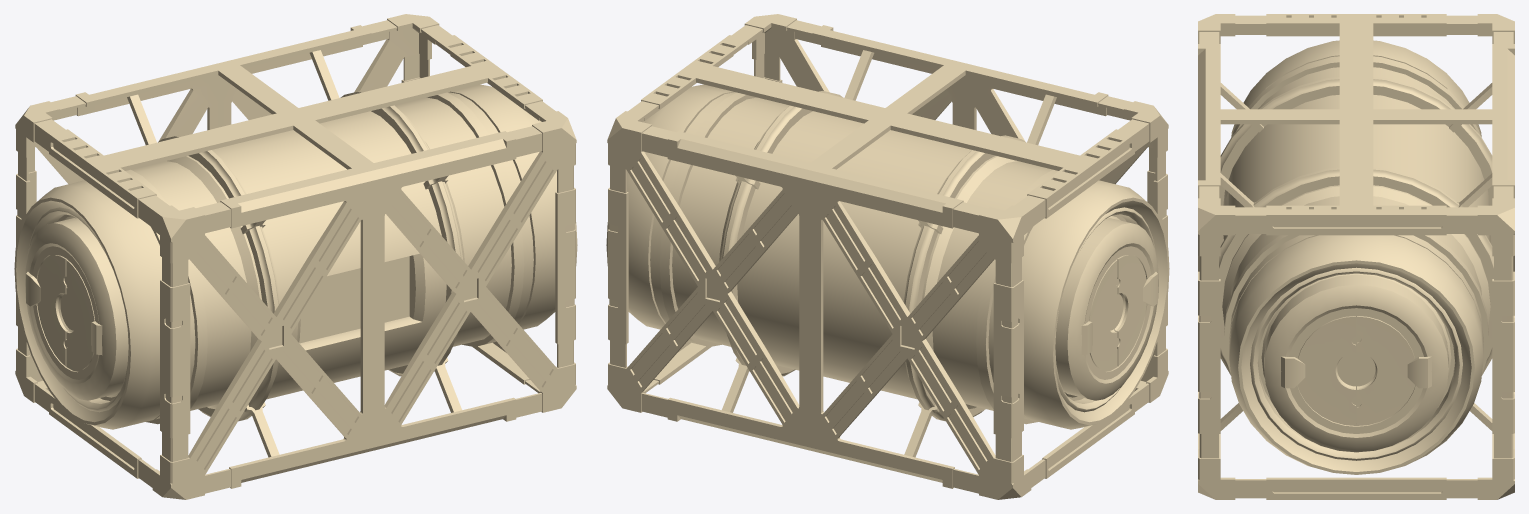
Rendered from cargo_box6.fbx.
The picture shows the model from 3 angles, left to right: view 1: azimuth 30°, elevation 25°; view 2: azimuth 150°, elevation 25°; view 3: azimuth 270°, elevation 25°; orthographic projection.
Visible parts, largest first — view 1: cage2.001, Cylinder.007, Cylinder.010, Cube.012_Piece.003, Cube.012_Piece.004, Cube.012_Piece.001_Piece.003, Cube.012_Piece.001_Piece.004; view 2: cage2.001, Cylinder.007, Cylinder.010, Cube.012_Piece.003, Cube.012_Piece.004, Cube.012_Piece.001_Piece.003, Cube.012_Piece.001_Piece.004; view 3: Cylinder.007, cage2.001, Cylinder.010, Cube.012_Piece.004, Cube.012_Piece.003, Cube.012_Piece.001_Piece.004, Cube.012_Piece.001_Piece.003.
Boxes of the visible parts, x1,y1,x2,y2 form: cage2.001: (15, 14, 576, 499); Cylinder.007: (14, 84, 577, 429); Cylinder.010: (26, 246, 102, 379); Cube.012_Piece.003: (158, 135, 280, 421); Cube.012_Piece.004: (340, 91, 463, 376); Cube.012_Piece.001_Piece.003: (127, 94, 279, 457); Cube.012_Piece.001_Piece.004: (309, 50, 461, 412); cage2.001: (607, 14, 1168, 499); Cylinder.007: (606, 84, 1169, 429); Cylinder.010: (1081, 246, 1157, 379); Cube.012_Piece.003: (903, 135, 1025, 421); Cube.012_Piece.004: (720, 91, 843, 376); Cube.012_Piece.001_Piece.003: (904, 94, 1056, 457); Cube.012_Piece.001_Piece.004: (722, 50, 874, 412); Cylinder.007: (1222, 40, 1490, 474); cage2.001: (1198, 14, 1514, 499); Cylinder.010: (1281, 308, 1431, 433); Cube.012_Piece.004: (1219, 167, 1493, 375); Cube.012_Piece.003: (1219, 77, 1493, 245); Cube.012_Piece.001_Piece.004: (1220, 173, 1492, 430); Cube.012_Piece.001_Piece.003: (1220, 83, 1492, 132).
Size of the model in its own units: 89.33 by 50.91 by 51.31.
